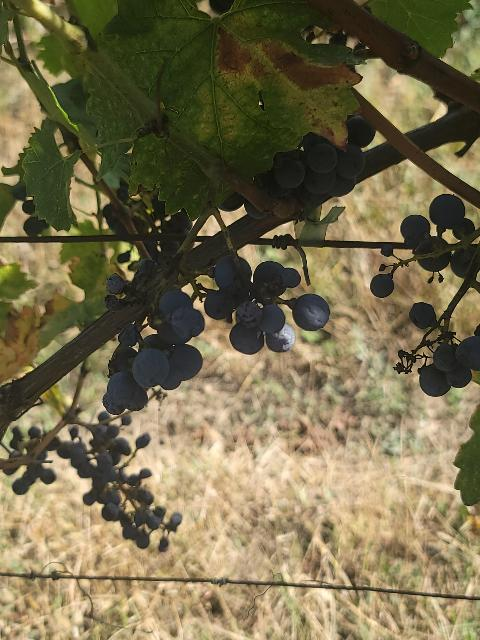grapes: (12, 412, 182, 551), (102, 290, 205, 414), (204, 255, 330, 354)
